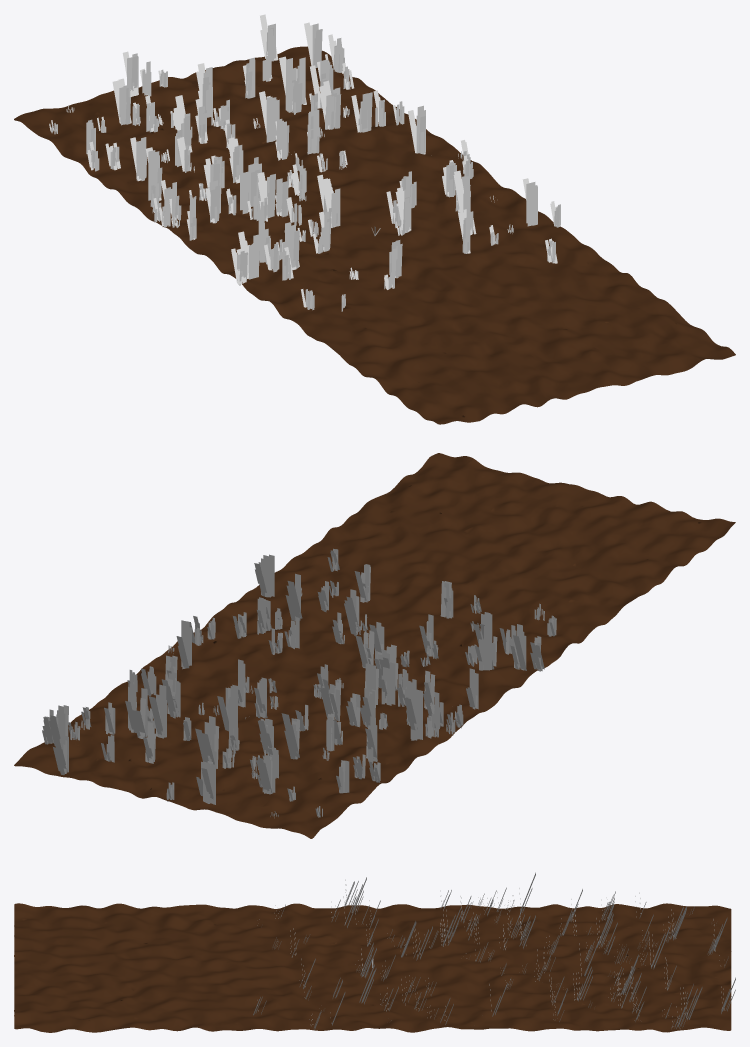
The model's file is LD48_Sea_Floor(1).fbx.
3 renders of one model, top to bottom at view 1: azimuth 30°, elevation 25°; view 2: azimuth 150°, elevation 25°; view 3: azimuth 270°, elevation 25°, orthographic. The views are drawn at different scales.
Visible parts, largest first — view 1: Plane.001; view 2: Plane.001; view 3: Plane.001.
Part boxes in pixels (left/top/right/bottom): Plane.001: left=14, top=46, right=735, bottom=424; Plane.001: left=14, top=453, right=735, bottom=838; Plane.001: left=14, top=903, right=731, bottom=1032.
Size of what is drawn, in the model's own units: 469 by 84.57 by 1141.
